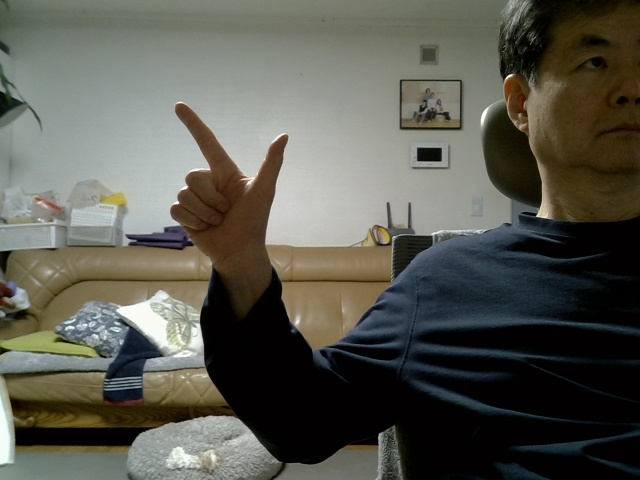scissors: (142, 91, 309, 258)
